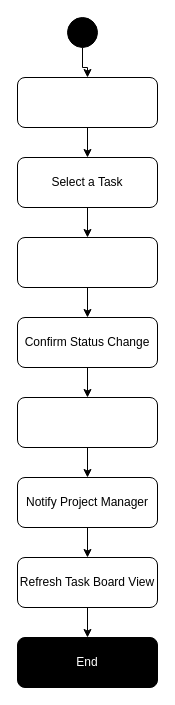
This 175x705 diagram has some shape labels left out. Each missing label, with the centre of its shape:
Choose New Status: the point at 87,262
Open Task Board / Task List: the point at 87,102
Update Task in Database: the point at 87,422
